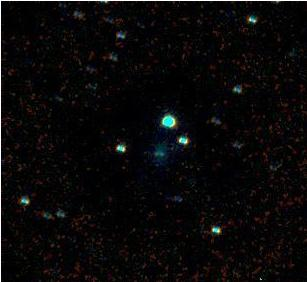star: (249, 265, 279, 282)
